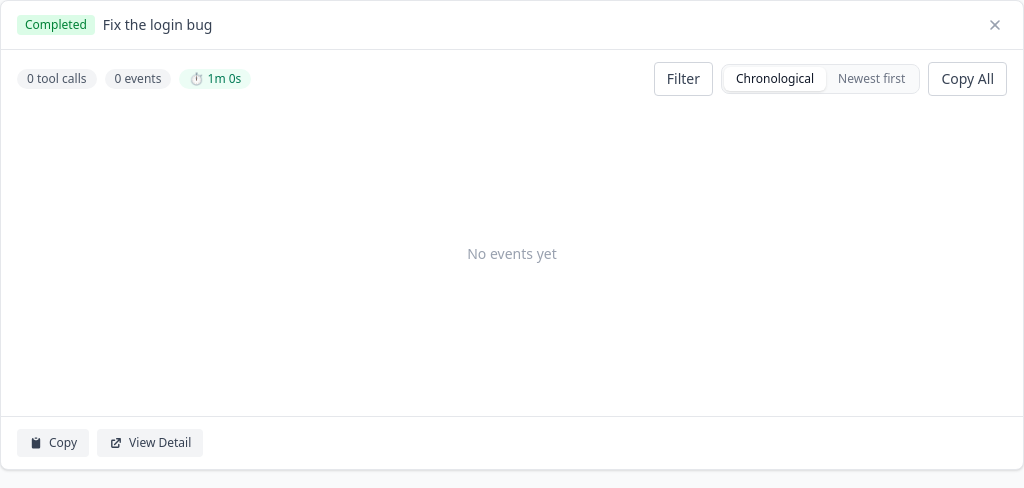
Test case: TaskResultPanel › copy button › shows 'Copied' feedback after click
This screenshot has width=1024, height=488.
Click the button with aria-label "Copy result to clipboard". click: (53, 443)
box: [17, 429, 89, 457]
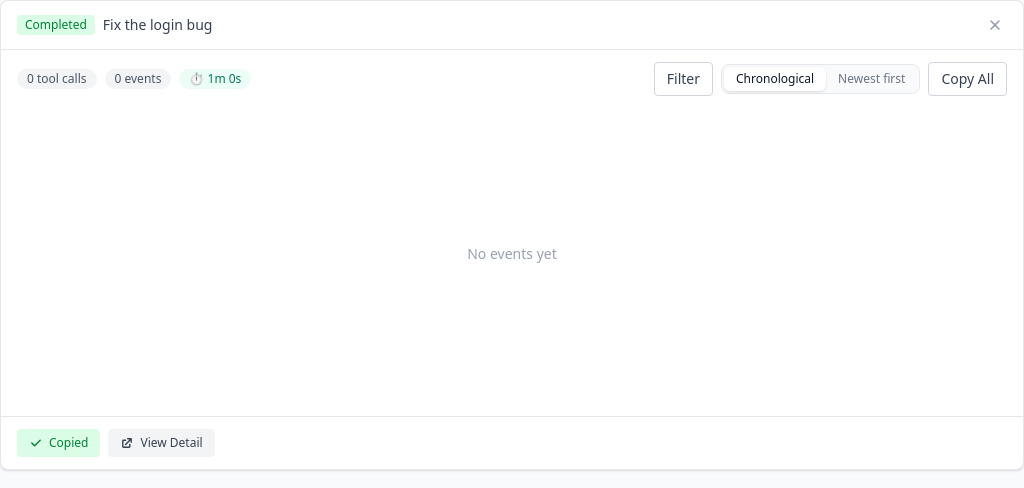
Expected: the button "Copied" is shown, [17, 429, 100, 457]
